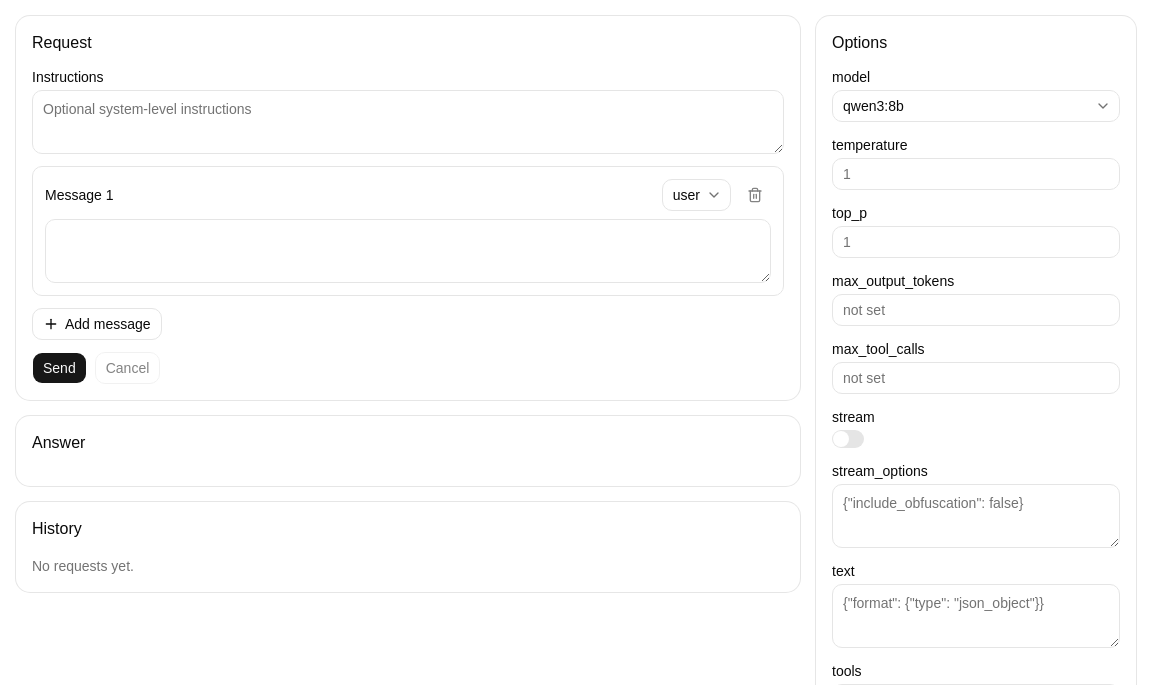
Test case: a stream that ends without [DONE] completes
Expected: the dropdown named "model" shows "qwen3:8b", [832,90,1120,122]
Type "Hello" into the text box labelled "Message 1" at (408, 251), box [45,219,771,283]
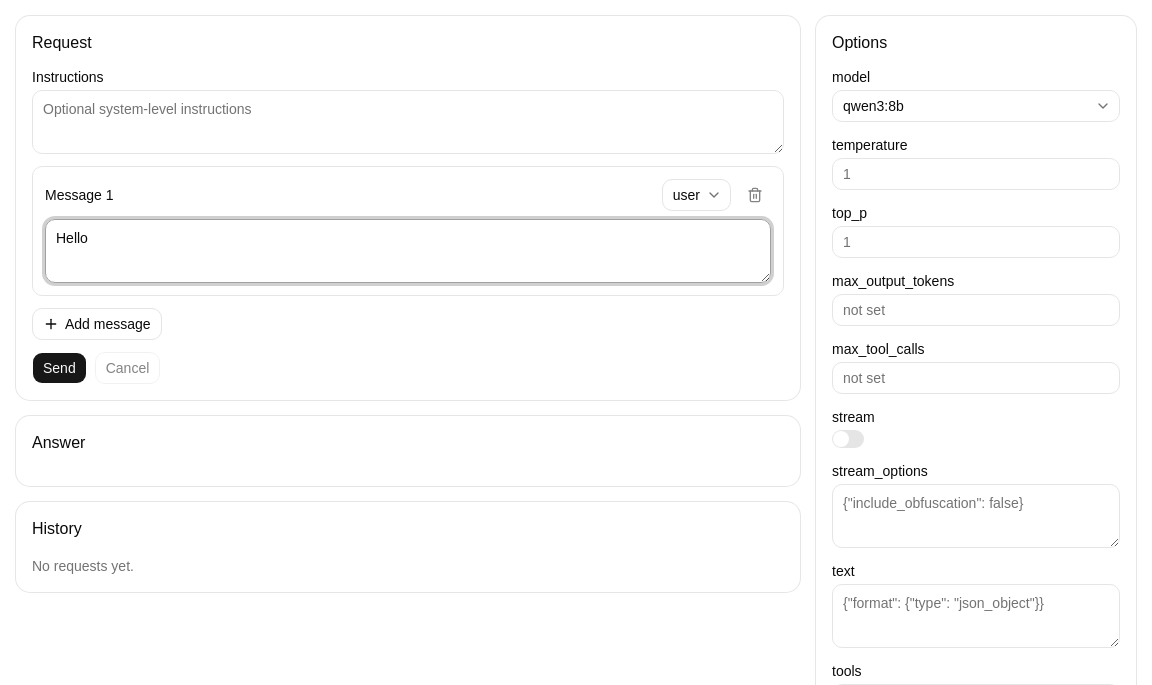
Click the switch named "stream" at (848, 439), box [832,430,864,448]
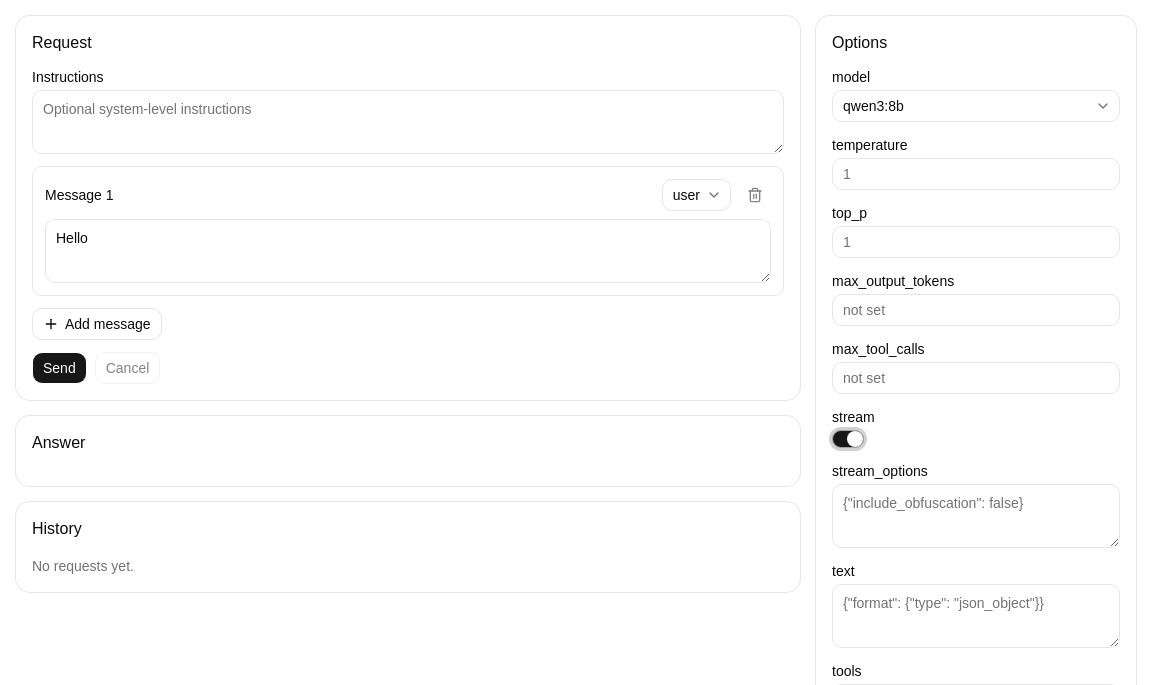
Click the button "Send" at (59, 368), box [32,352,87,384]
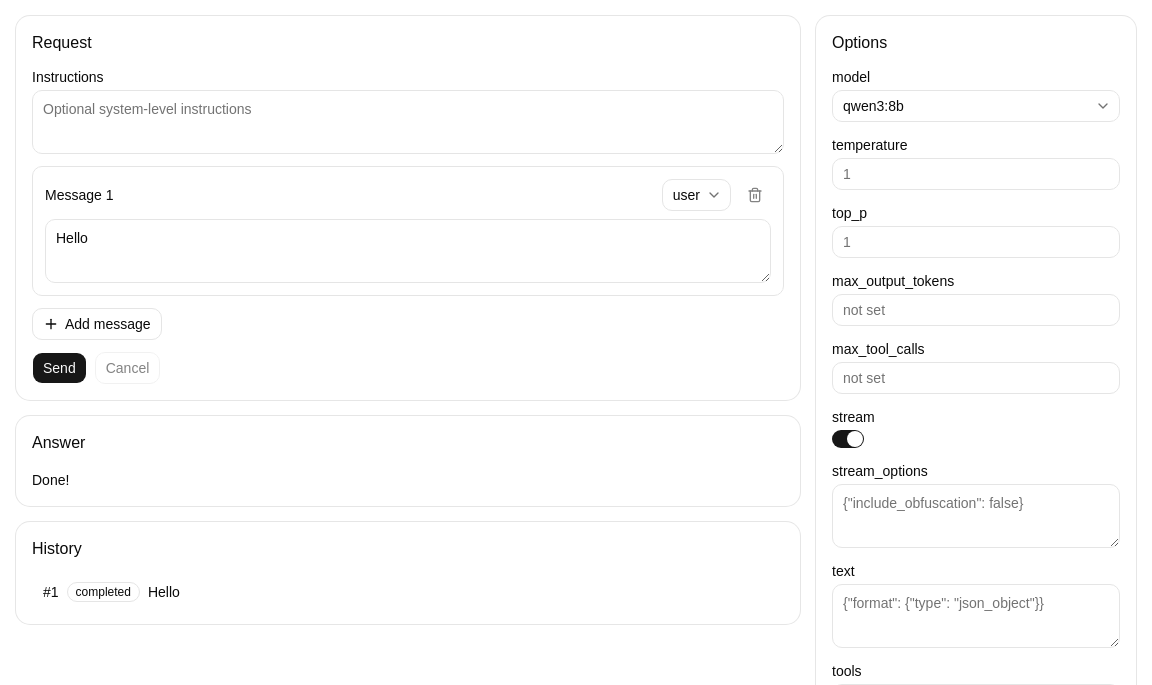
Result: the text "Done!" is shown at [32,472,69,488]
Result: the button "#1 completed Hello" is shown at [32,576,784,608]
